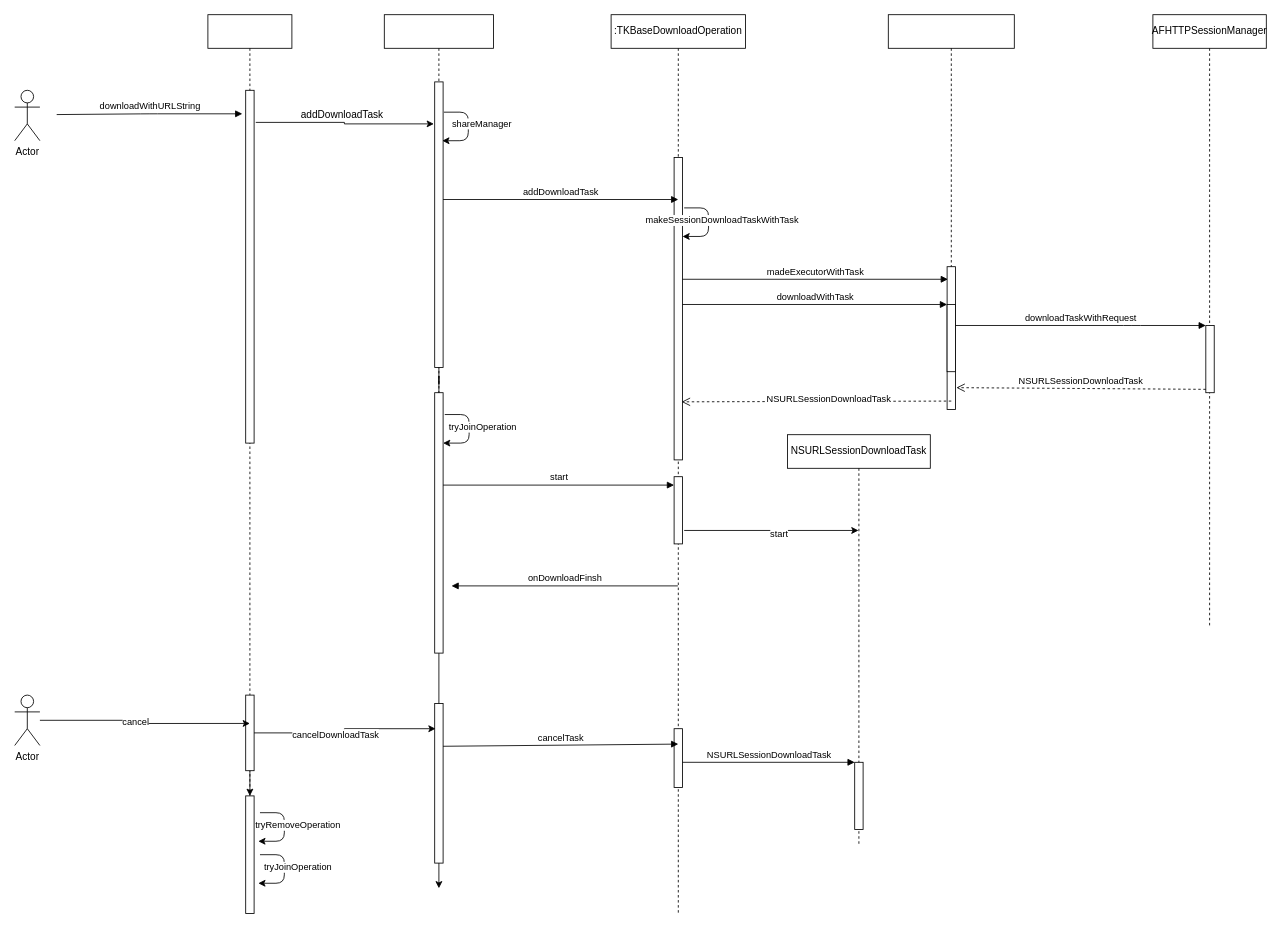
Image size: 1282x928. Some labels were removed from this diagram. Each missing label, with the box of its shape:
TKAbstractDownloadExecutor: (887, 14, 1014, 410)
TKDownloadManager: (383, 14, 494, 401)
TKDownloadTask: (207, 14, 292, 914)
